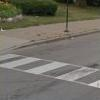Crosswalk: (10, 42, 99, 90)
